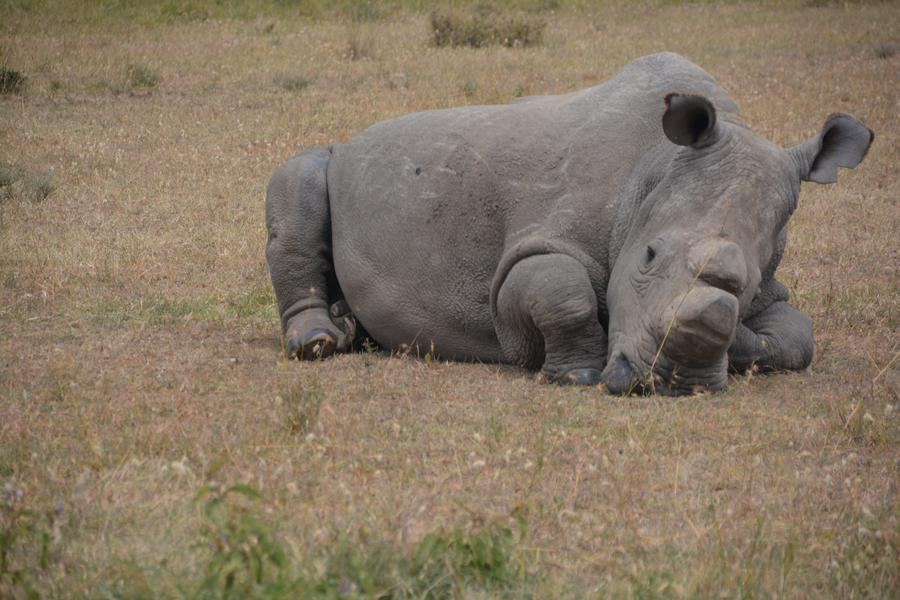rhino: (255, 43, 852, 357)
